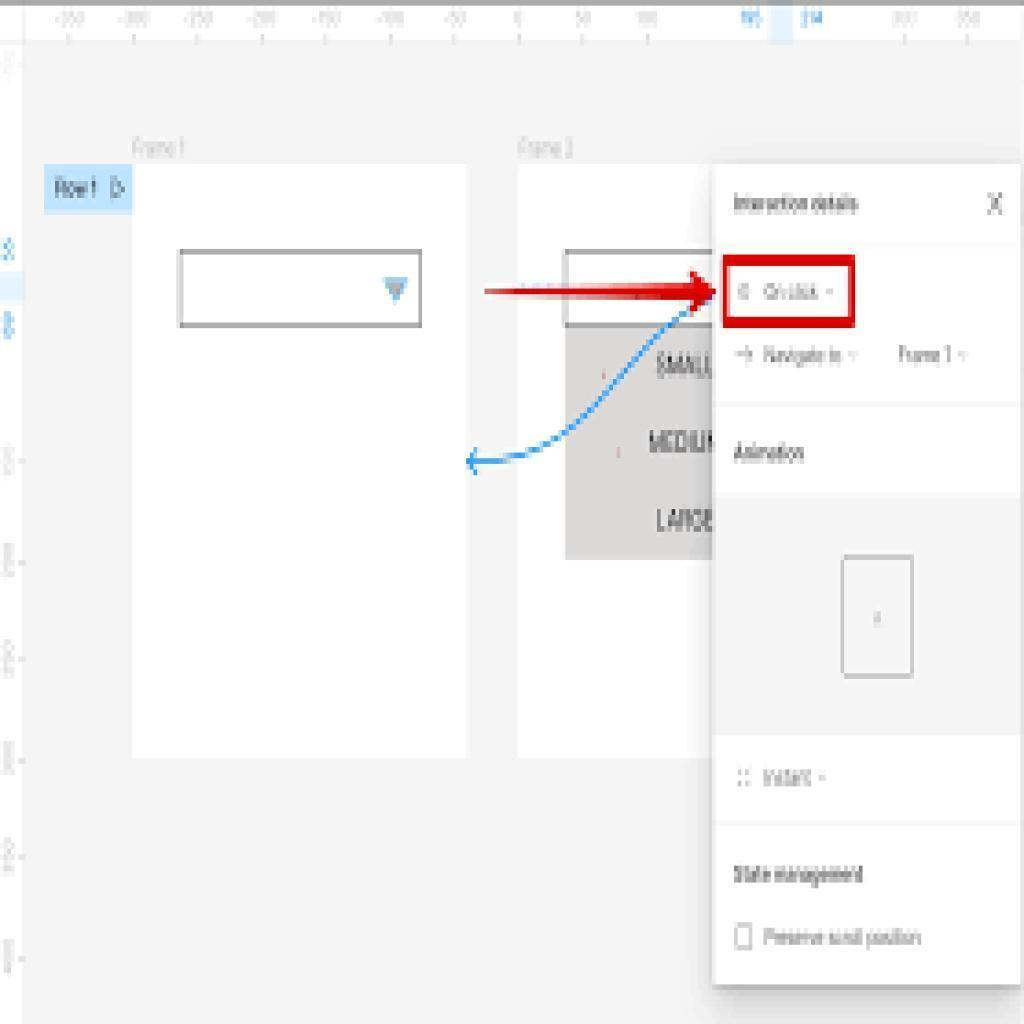checkbox: (734, 923, 755, 954)
dropdown: (180, 247, 423, 328), (722, 254, 857, 329)
icon: (983, 187, 1009, 221)
label: (760, 926, 926, 949)
